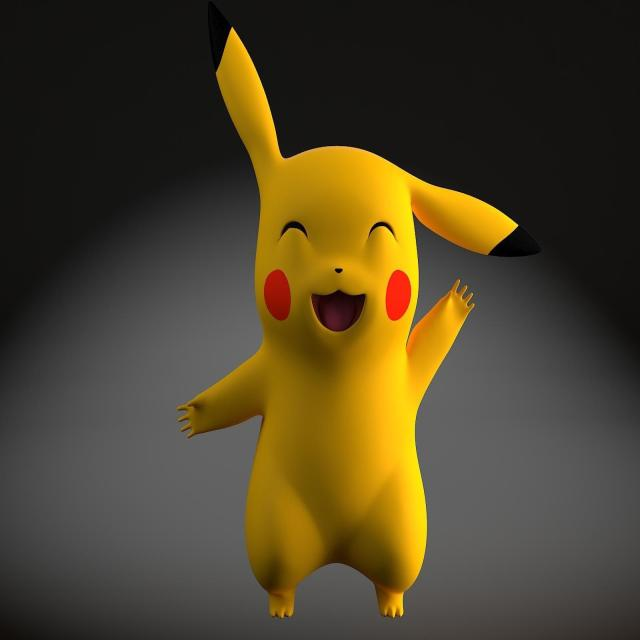pikachu: (179, 8, 534, 621)
